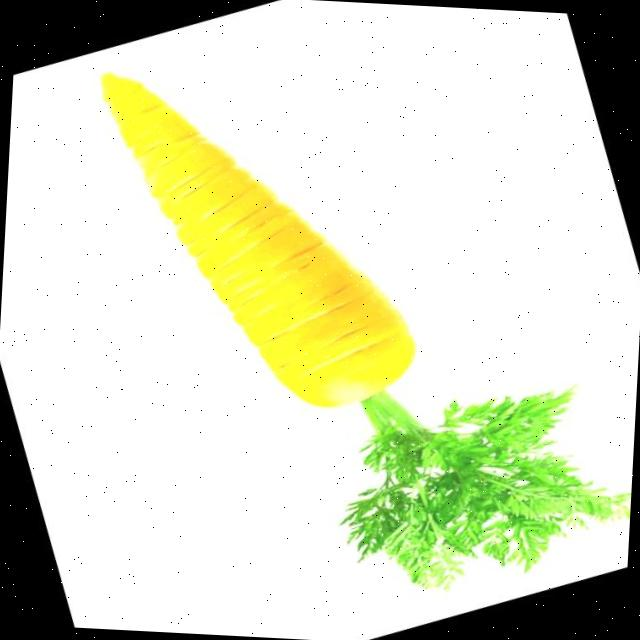carrot: (102, 74, 626, 585)
